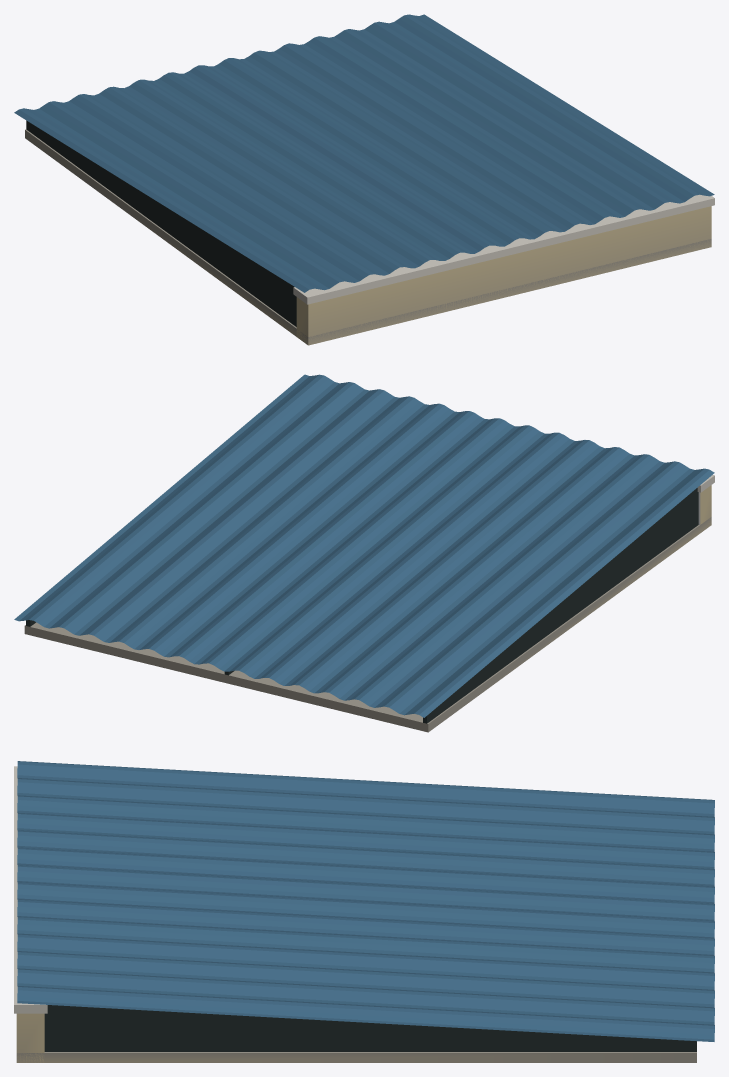
File: mai_ton_60.glb
The picture shows the model from 3 angles, top to bottom: view 1: azimuth 30°, elevation 25°; view 2: azimuth 150°, elevation 25°; view 3: azimuth 270°, elevation 25°; orthographic projection. The views are drawn at different scales.
Visible parts, largest first — view 1: mai_ton_60; view 2: mai_ton_60; view 3: mai_ton_60.
Boxes of the visible parts, x1,y1,x2,y2 form: mai_ton_60: (14, 14, 714, 345); mai_ton_60: (14, 374, 714, 732); mai_ton_60: (14, 761, 714, 1062).
Bounding box in the file's own units: 6.1 × 0.7881 × 7.52.
